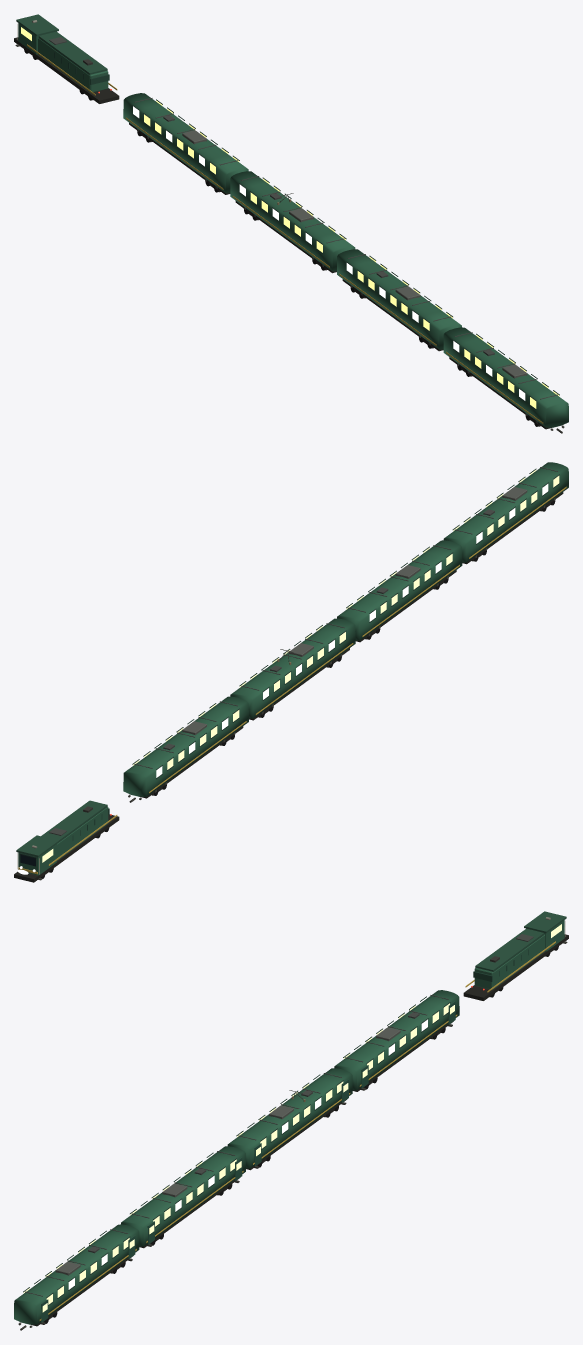
File: green_train.glb
3 views of the same model, one above another, from view 1: azimuth 30°, elevation 25°; view 2: azimuth 150°, elevation 25°; view 3: azimuth 330°, elevation 25° (orthographic).
Visible parts, largest first — view 1: GreenTrain_TrainGreen, GreenTrain_TrainGreen2, GreenTrain_TrainUnder, GreenTrain_TrainWarm, GreenTrain_TrainRoof, GreenTrain_TrainYellow, GreenTrain_TrainMetal, GreenTrain_TrainCool; view 2: GreenTrain_TrainGreen, GreenTrain_TrainGreen2, GreenTrain_TrainUnder, GreenTrain_TrainWarm, GreenTrain_TrainRoof, GreenTrain_TrainYellow, GreenTrain_TrainMetal, GreenTrain_TrainCool; view 3: GreenTrain_TrainGreen, GreenTrain_TrainGreen2, GreenTrain_TrainWarm, GreenTrain_TrainUnder, GreenTrain_TrainRoof, GreenTrain_TrainMetal, GreenTrain_TrainYellow, GreenTrain_TrainCool.
Boxes of the visible parts, x1,y1,x2,y2 form: GreenTrain_TrainGreen: [18, 23, 568, 427]; GreenTrain_TrainGreen2: [16, 14, 559, 409]; GreenTrain_TrainUnder: [14, 37, 562, 429]; GreenTrain_TrainWarm: [21, 27, 559, 408]; GreenTrain_TrainRoof: [134, 98, 557, 399]; GreenTrain_TrainYellow: [27, 44, 543, 423]; GreenTrain_TrainMetal: [15, 20, 564, 433]; GreenTrain_TrainCool: [133, 106, 537, 400]; GreenTrain_TrainGreen: [18, 462, 568, 875]; GreenTrain_TrainGreen2: [16, 468, 559, 858]; GreenTrain_TrainUnder: [14, 492, 563, 882]; GreenTrain_TrainWarm: [42, 470, 559, 862]; GreenTrain_TrainRoof: [134, 467, 557, 768]; GreenTrain_TrainYellow: [18, 486, 566, 874]; GreenTrain_TrainMetal: [17, 497, 555, 880]; GreenTrain_TrainCool: [155, 484, 548, 777]; GreenTrain_TrainGreen: [14, 920, 564, 1324]; GreenTrain_TrainGreen2: [23, 911, 566, 1322]; GreenTrain_TrainWarm: [23, 924, 561, 1312]; GreenTrain_TrainUnder: [20, 934, 568, 1326]; GreenTrain_TrainRoof: [25, 995, 448, 1296]; GreenTrain_TrainMetal: [18, 917, 567, 1330]; GreenTrain_TrainYellow: [39, 941, 555, 1320]; GreenTrain_TrainCool: [34, 997, 427, 1289].
Bounding box in the file's own units: 3.4 × 5.36 × 126.
